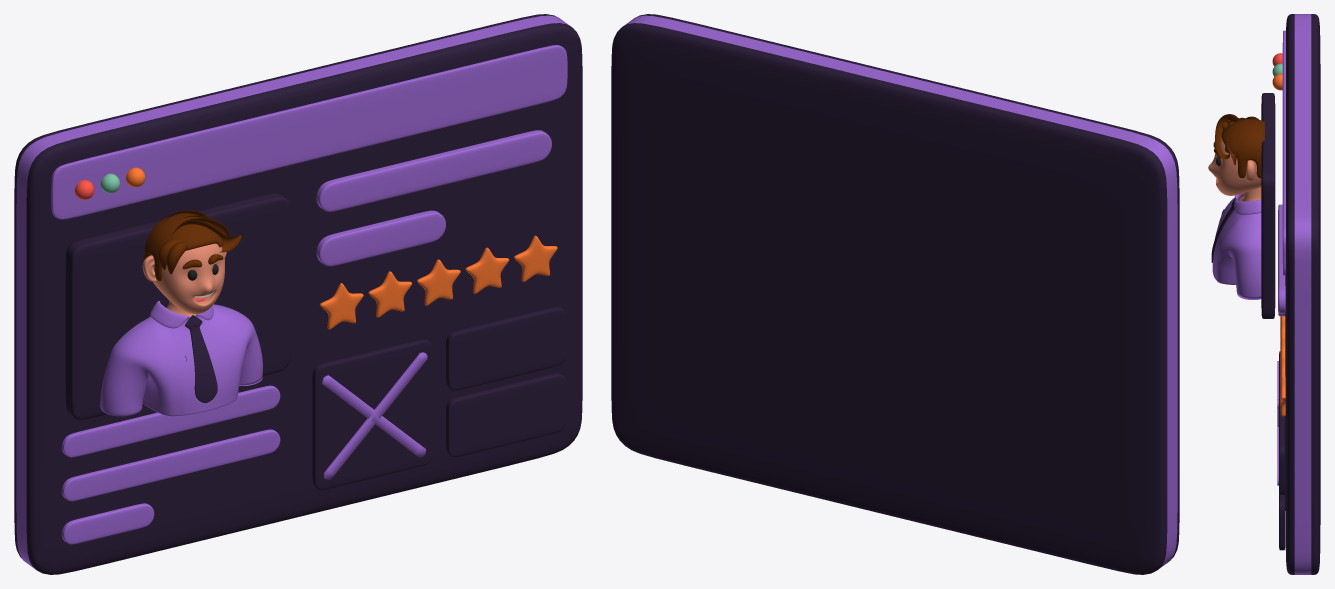
Rendered from customer-persona-3d-animated-icon-394448880727.glb.
3 views of the same model, side by side, from view 1: azimuth 30°, elevation 25°; view 2: azimuth 150°, elevation 25°; view 3: azimuth 270°, elevation 25° (orthographic). The views are drawn at different scales.
Visible parts, largest first — view 1: Cube, Cube.001, Cube.006, Shirt.001, Cube.003, Cube.004, Cube.011, Cube.015, Cube.012, Cube.005, Hair, Cube.018 (+7 smaller); view 2: Cube; view 3: Cube, Shirt.001, Cube.001, Hair, Cube.018, Cube.003, Cube.004, Cube.011, Cube.006, Tie, Star.004, Body.
Part boxes in pixels (x1,y1,x2,y2): Cube: [14, 14, 582, 574]; Cube.001: [65, 193, 290, 419]; Cube.006: [312, 339, 432, 489]; Shirt.001: [100, 301, 262, 416]; Cube.003: [316, 130, 551, 211]; Cube.004: [446, 306, 566, 390]; Cube.011: [446, 373, 566, 456]; Cube.015: [61, 429, 280, 501]; Cube.012: [61, 385, 280, 457]; Cube.005: [316, 210, 445, 266]; Hair: [144, 210, 242, 280]; Cube.018: [142, 243, 226, 314]; Cube: [611, 14, 1179, 574]; Cube: [1272, 14, 1320, 574]; Shirt.001: [1212, 193, 1261, 299]; Cube.001: [1261, 93, 1275, 318]; Hair: [1215, 114, 1264, 178]; Cube.018: [1208, 137, 1261, 195]; Cube.003: [1278, 204, 1285, 313]; Cube.004: [1279, 405, 1285, 494]; Cube.011: [1279, 492, 1285, 550]; Cube.006: [1277, 351, 1280, 485]; Tie: [1211, 198, 1236, 262]; Star.004: [1280, 375, 1285, 416]; Body: [1238, 187, 1261, 201].
Bounding box in the file's own units: 1.65 × 1.23 × 0.3491.
